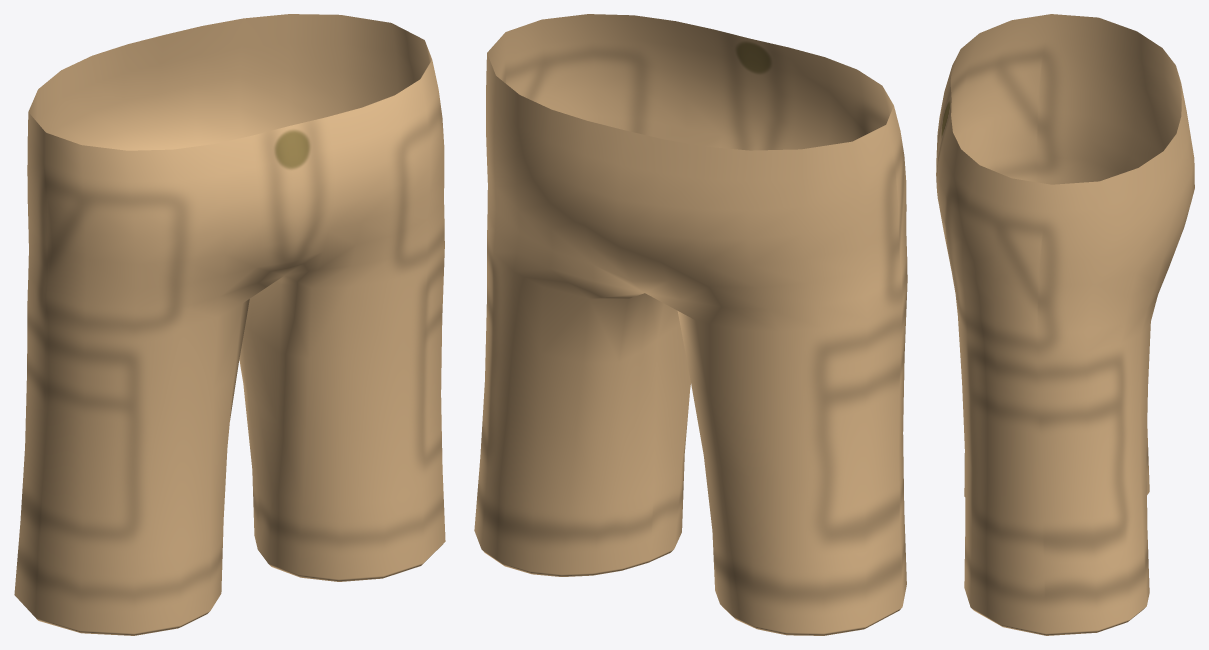
Rendered from lower cloth 03.glb.
The picture shows the model from 3 angles, left to right: view 1: azimuth 30°, elevation 25°; view 2: azimuth 150°, elevation 25°; view 3: azimuth 270°, elevation 25°; orthographic projection. The views are drawn at different scales.
Parts seen in each view (by area): view 1: lower_cloth_03; view 2: lower_cloth_03; view 3: lower_cloth_03.
Boxes of the visible parts, x1,y1,x2,y2 form: lower_cloth_03: (14,14,445,635); lower_cloth_03: (474,14,907,635); lower_cloth_03: (936,14,1194,635).
Bounding box in the file's own units: 0.00514 × 0.00588 × 0.00308.
1 material, 1 textured.
